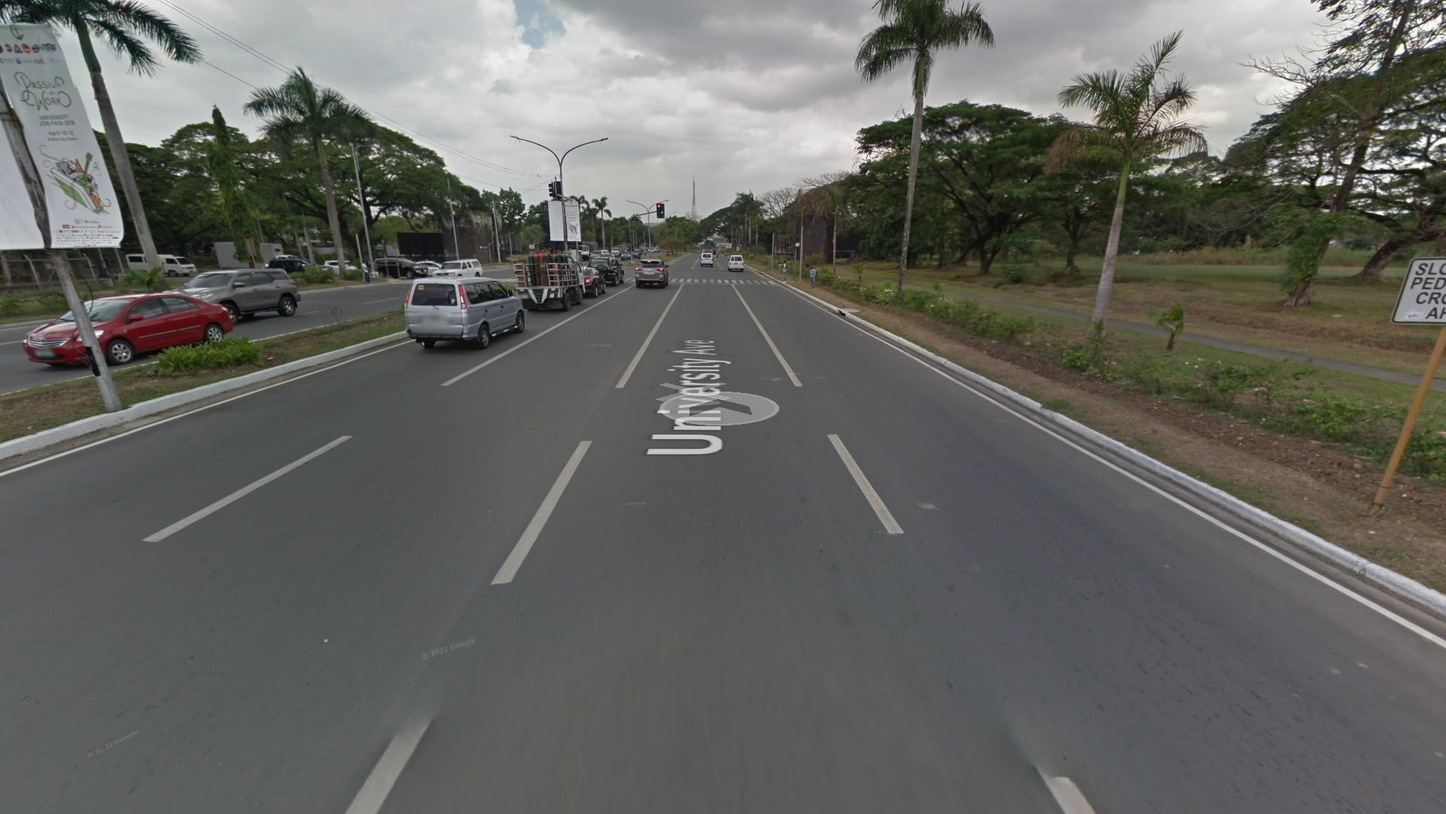pedestrian: (361, 259, 373, 285), (809, 264, 817, 290), (782, 259, 789, 281), (724, 250, 728, 259)
